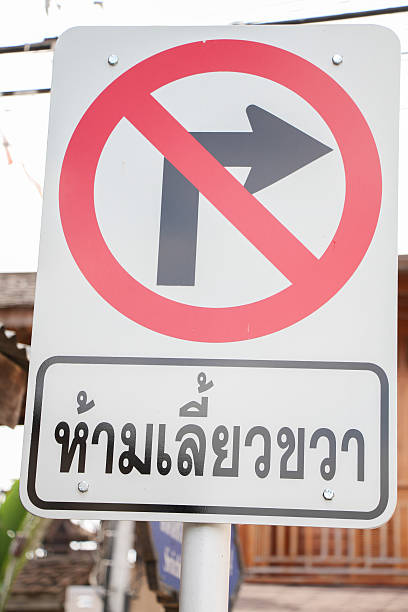saga_girilmez: (62, 37, 384, 339)
